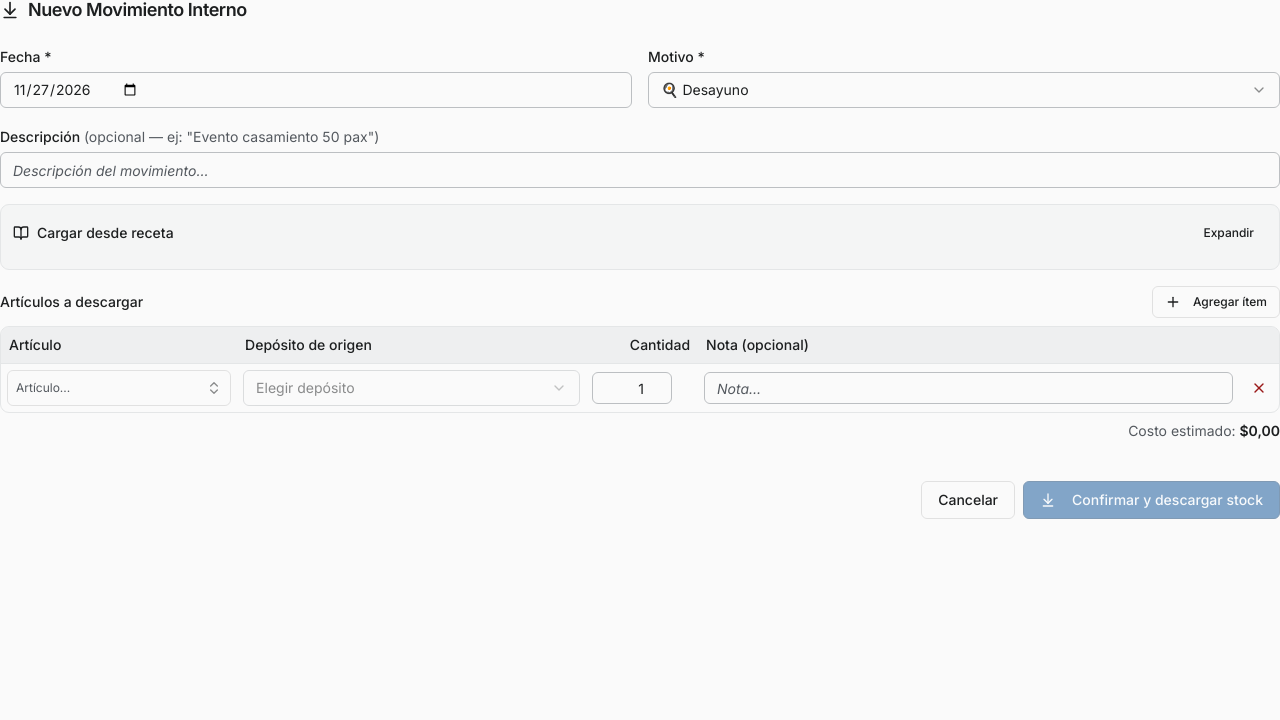
Scenario: ItemCombobox — buscador de artículos › escribir dos letras filtra por nombre, sin tener que scrollear todo el catálogo
This screenshot has width=1280, height=720.
Click the button with test id "btn-add-im-item" at (1216, 302), box 1152,286 -> 1279,318
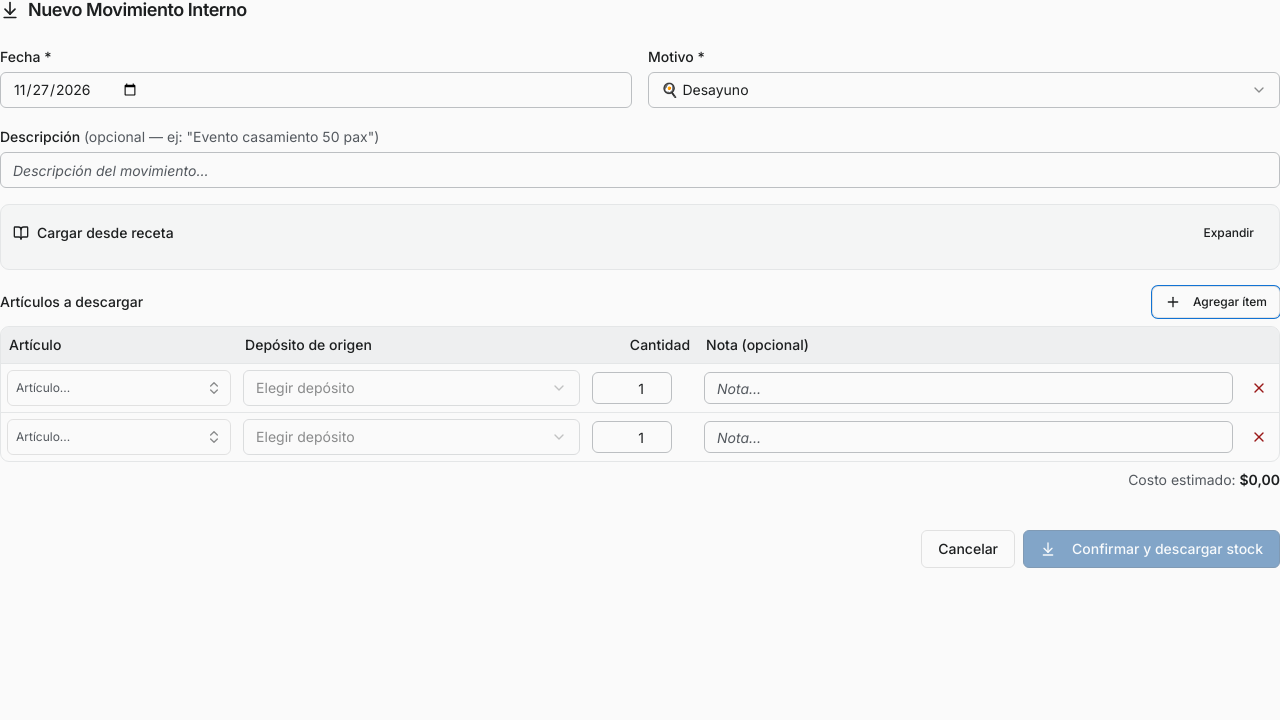
Click the dropdown with test id "select-im-item-0" at (119, 388), box 7,370 -> 231,406
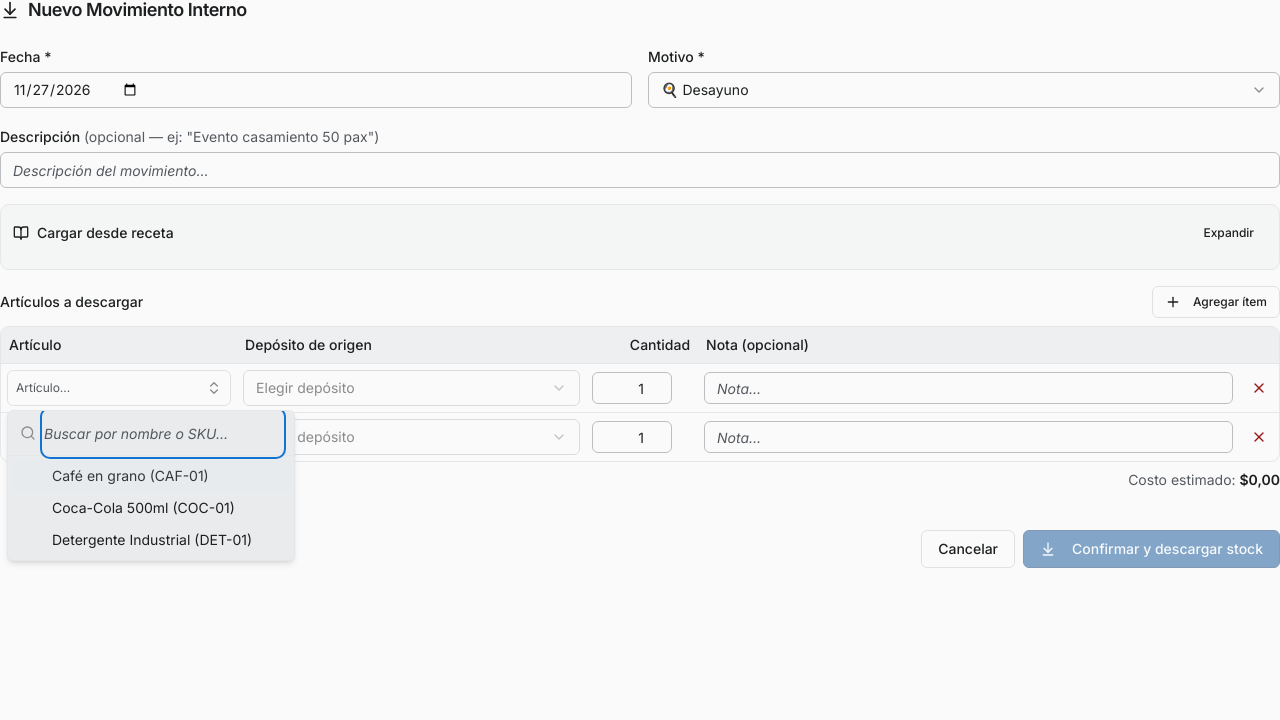
expect the text "Café en grano (CAF-01)" is shown: met, box 52,467 -> 209,484
expect the text "Coca-Cola 500ml (COC-01)" is shown: met, box 52,499 -> 235,516
expect the text "Detergente Industrial (DET-01)" is shown: met, box 52,530 -> 282,550
Type "co" into the dropdown with test id "select-im-item-0-search" at (163, 433), box 44,411 -> 282,455
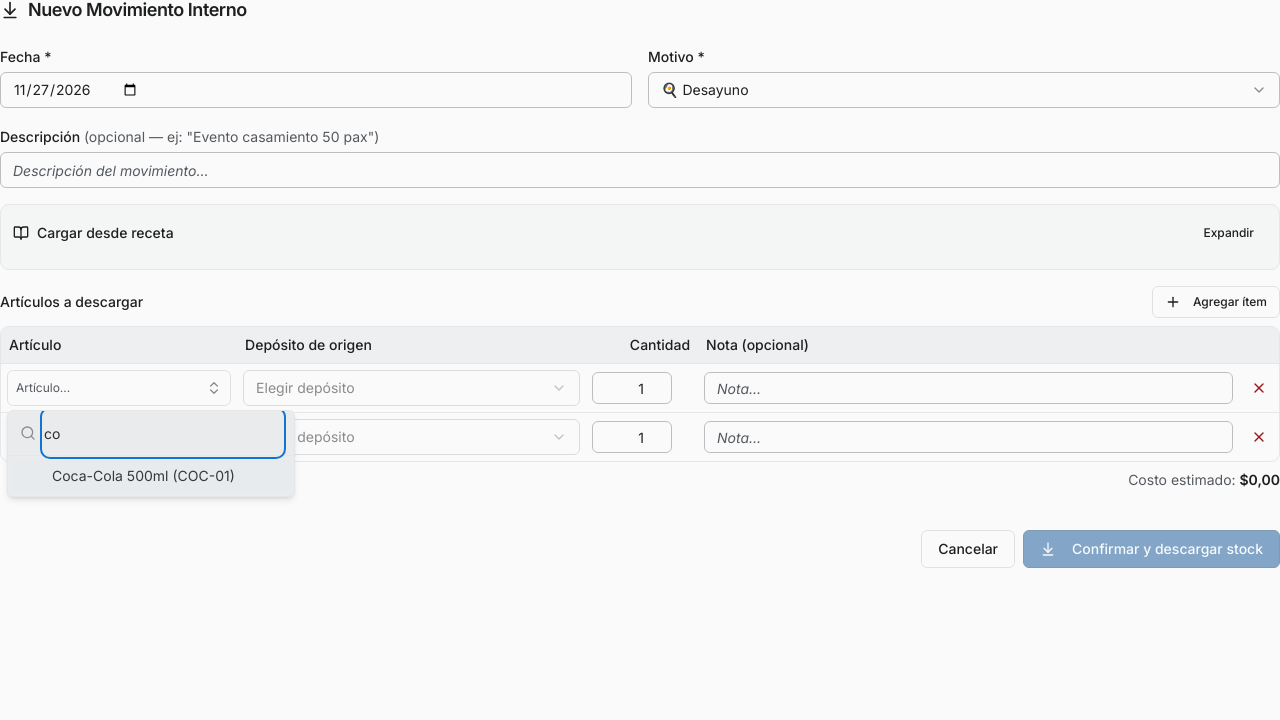
expect the text "Coca-Cola 500ml (COC-01)" is shown: met, box 52,467 -> 235,484
expect the option "Detergente Industrial (DET-01)" is gone: met
